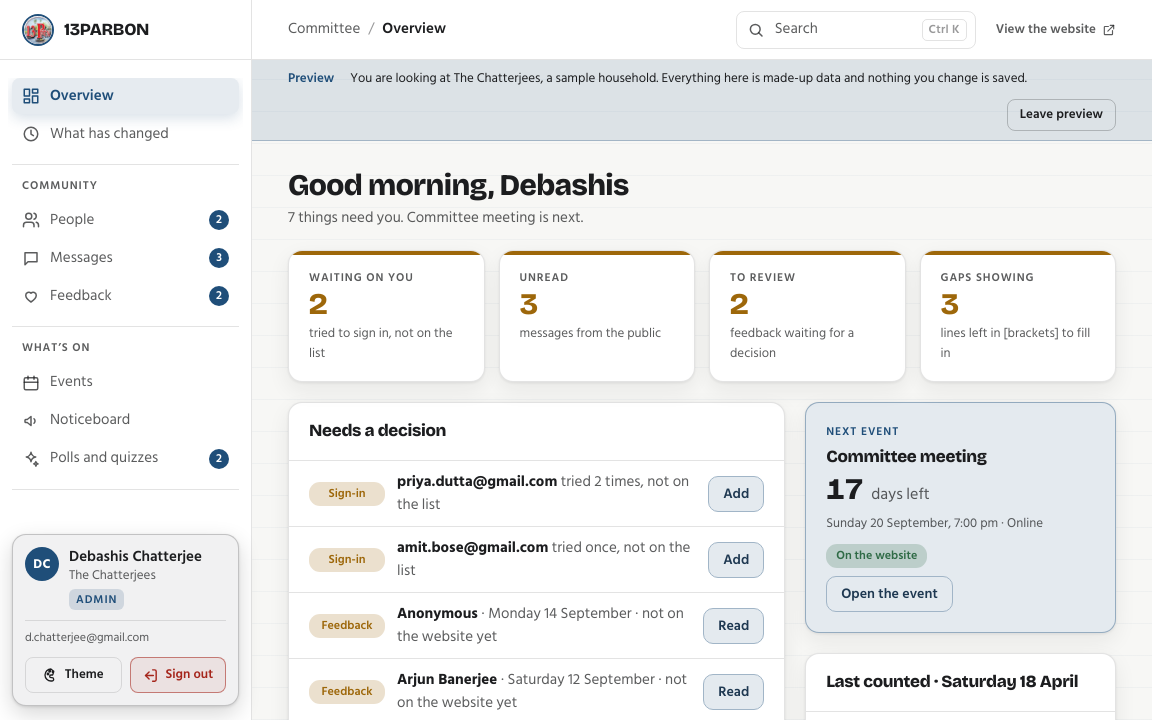
the committee’s search › lists the screens before anything is typed
Click the button "Search Ctrl K" at {"x": 856, "y": 30}, box 736,10 -> 976,48
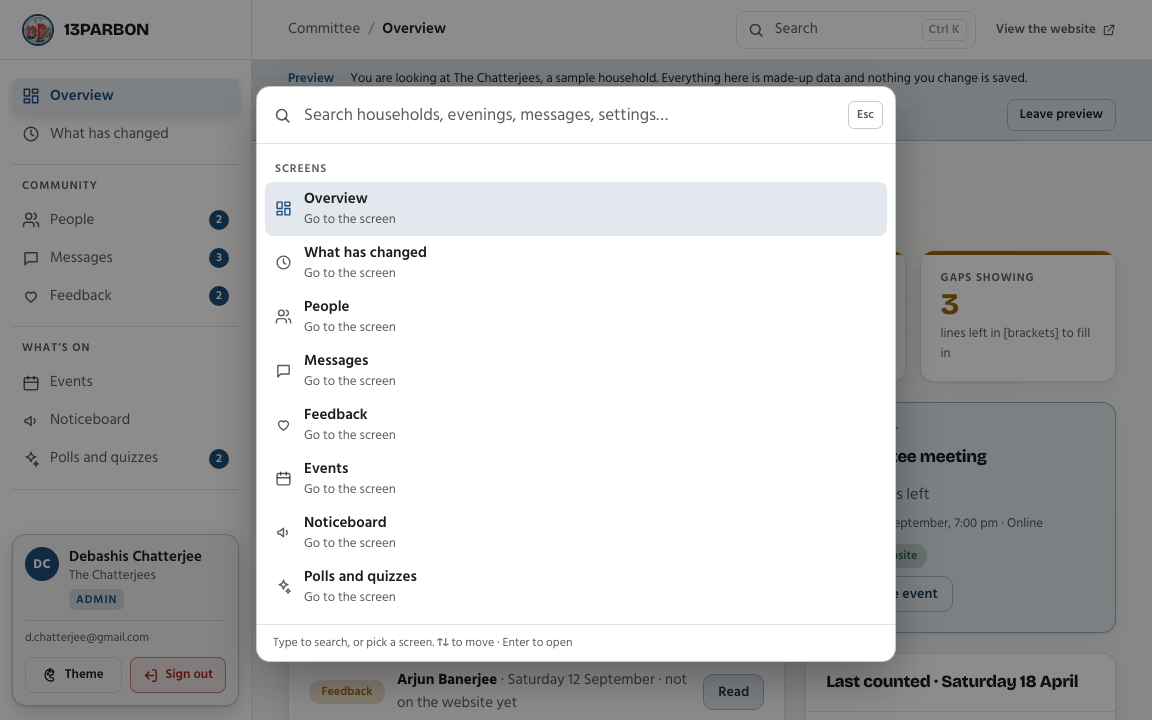
Expected: the option "What has changed Go to the screen" is shown, 275,240 -> 427,284
